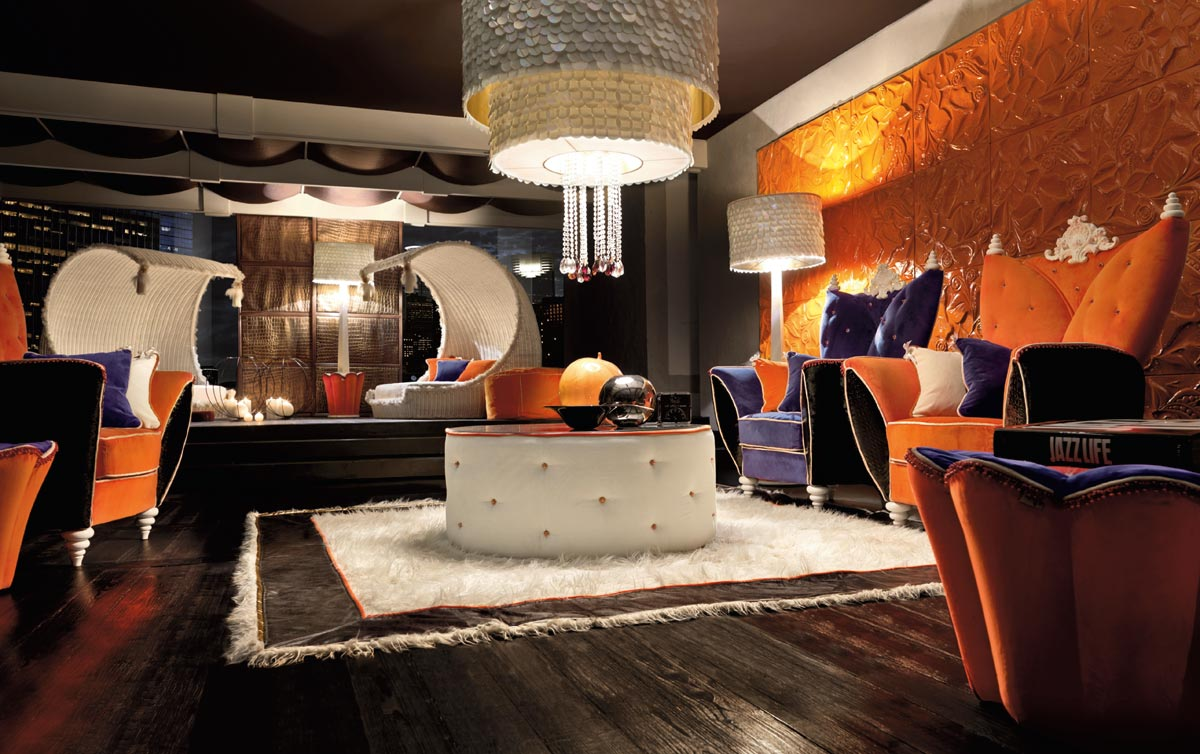hitam: (553, 405, 608, 430)
orange: (981, 254, 1160, 353), (98, 428, 159, 522), (488, 372, 561, 421), (324, 372, 364, 415), (755, 359, 783, 409)
putih: (441, 434, 716, 551), (726, 193, 827, 269), (909, 349, 959, 415), (312, 241, 375, 286)
